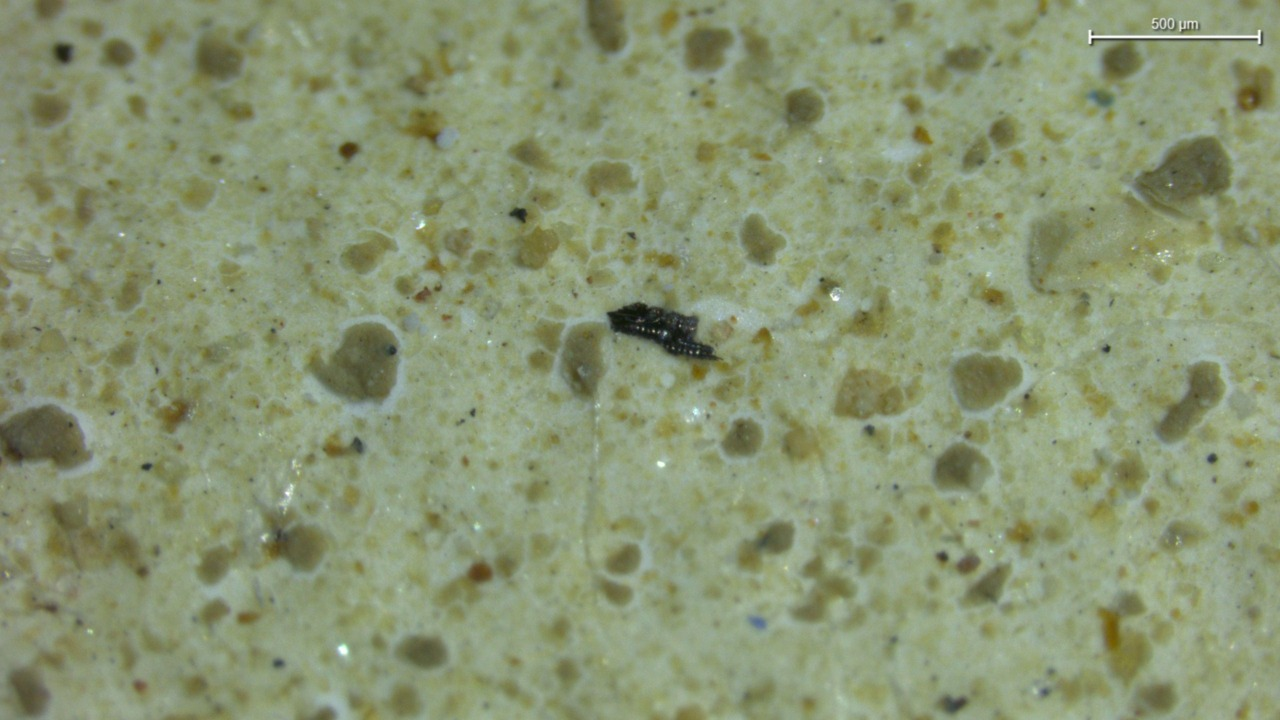microplastic_fragment: (607, 302, 718, 360)
